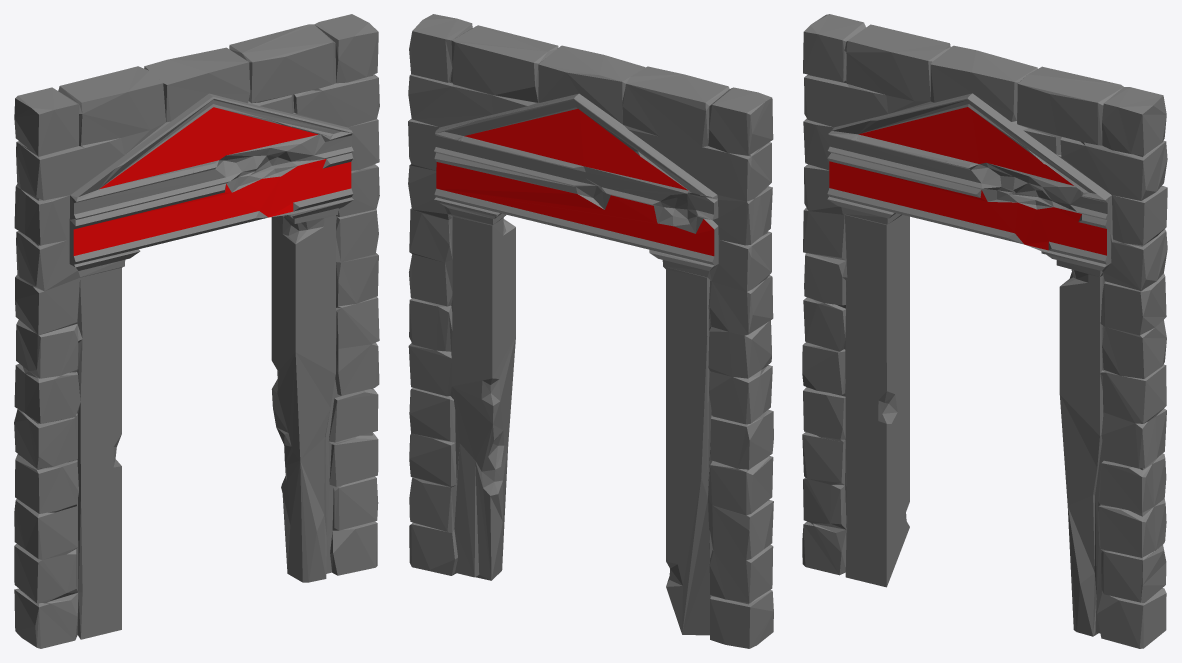
The model's file is WallDoor02.fbx.
3 renders of one model, left to right at view 1: azimuth 30°, elevation 25°; view 2: azimuth 150°, elevation 25°; view 3: azimuth 330°, elevation 25°, orthographic.
Parts seen in each view (by area): view 1: WallDoor02; view 2: WallDoor02; view 3: WallDoor02.
Boxes of the visible parts, x1,y1,x2,y2 form: WallDoor02: (14,14,379,648); WallDoor02: (408,14,773,648); WallDoor02: (802,14,1167,648).
Size of the model in its own units: 402 by 600 by 75.38.
